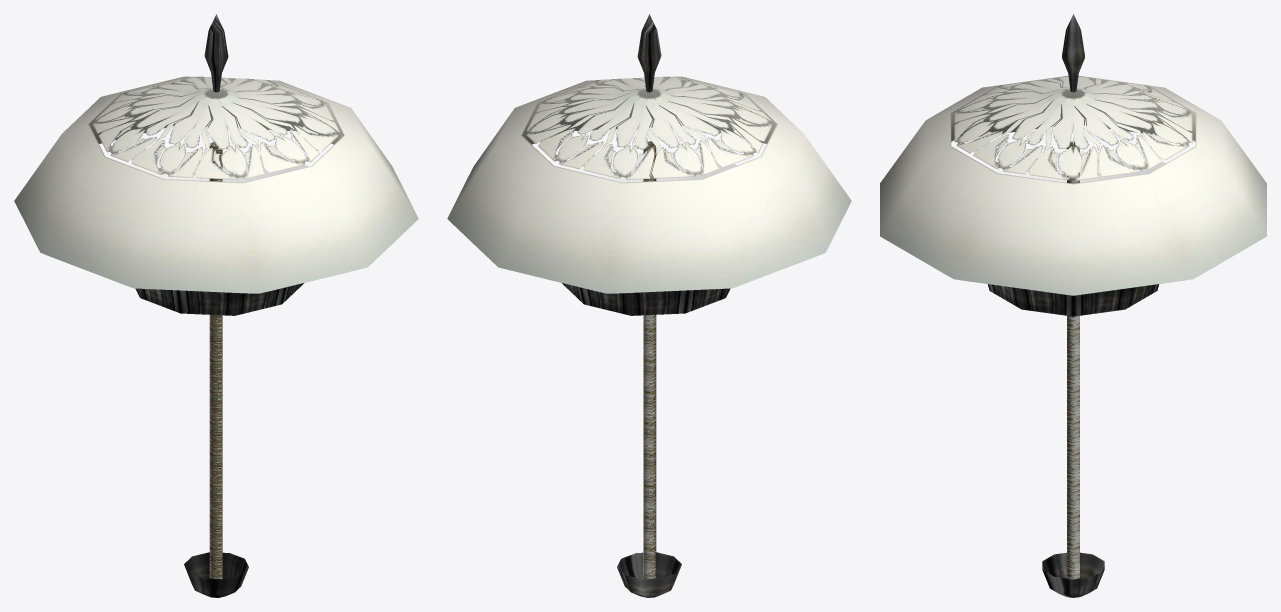
The model's file is corporate_chandelier_9.fbx.
3 renders of one model, left to right at view 1: azimuth 30°, elevation 25°; view 2: azimuth 150°, elevation 25°; view 3: azimuth 270°, elevation 25°, orthographic.
Parts seen in each view (by area): view 1: mesh_2, mesh_1, mesh_0; view 2: mesh_2, mesh_1, mesh_0; view 3: mesh_2, mesh_1, mesh_0.
Boxes of the visible parts, <box> form: mesh_2: <box>14,76,418,293</box>; mesh_1: <box>135,14,303,597</box>; mesh_0: <box>209,142,222,579</box>; mesh_2: <box>447,76,851,293</box>; mesh_1: <box>562,14,730,597</box>; mesh_0: <box>643,141,656,579</box>; mesh_2: <box>880,75,1266,295</box>; mesh_1: <box>988,14,1158,597</box>; mesh_0: <box>1067,141,1079,579</box>.
Size of the model in its own units: 156 by 245 by 148.
Materials: 3 (3 with a texture image).
